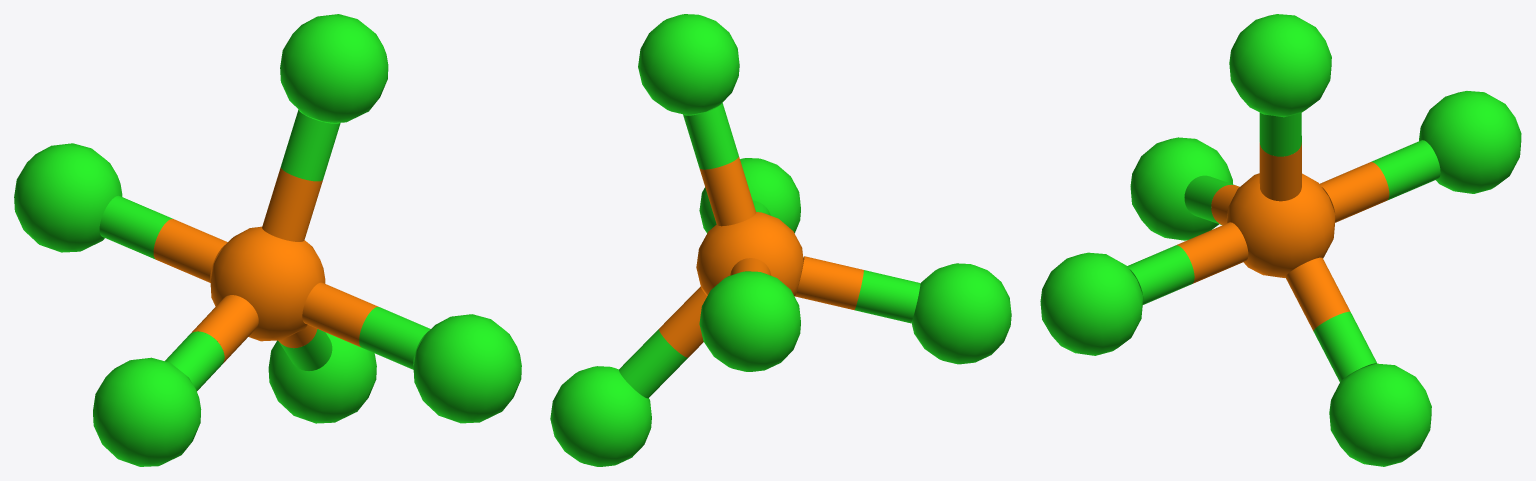
File: PCl5.dae
The picture shows the model from 3 angles, left to right: view 1: azimuth 30°, elevation 25°; view 2: azimuth 150°, elevation 25°; view 3: azimuth 270°, elevation 25°; orthographic projection. The views are drawn at different scales.
Visible parts, largest first — view 1: subnode_4, subnode_3, subnode_1, subnode_5, subnode_0, subnode_2, subnode_6, subnode_15, subnode_12, subnode_7, subnode_13, subnode_14 (+3 smaller); view 2: subnode_5, subnode_1, subnode_3, subnode_2, subnode_0, subnode_4, subnode_10, subnode_6, subnode_11, subnode_7, subnode_9, subnode_8; view 3: subnode_1, subnode_4, subnode_2, subnode_5, subnode_0, subnode_3, subnode_8, subnode_15, subnode_9, subnode_12, subnode_13, subnode_14 (+4 smaller).
Part boxes in pixels (x1,y1,x2,y2): subnode_4: (413,314,521,423); subnode_3: (93,357,201,466); subnode_1: (280,14,388,122); subnode_5: (14,143,122,252); subnode_0: (210,226,325,341); subnode_2: (268,332,376,423); subnode_6: (262,167,322,241); subnode_15: (153,219,227,282); subnode_12: (302,282,378,347); subnode_7: (281,109,340,181); subnode_13: (359,307,430,369); subnode_14: (99,195,172,259); subnode_5: (699,271,800,371); subnode_1: (638,14,739,114); subnode_3: (911,263,1011,364); subnode_2: (550,366,651,466); subnode_0: (696,212,803,296); subnode_4: (699,158,800,233); subnode_10: (795,256,863,310); subnode_6: (699,157,756,226); subnode_11: (855,270,920,323); subnode_7: (683,103,738,169); subnode_9: (619,329,687,398); subnode_8: (659,286,707,357); subnode_1: (1229,14,1331,117); subnode_4: (1040,252,1142,355); subnode_2: (1329,363,1431,466); subnode_5: (1419,91,1521,193); subnode_0: (1226,173,1335,277); subnode_3: (1130,137,1232,240); subnode_8: (1285,257,1350,331); subnode_15: (1319,162,1389,222); subnode_9: (1313,311,1377,382); subnode_12: (1176,222,1248,283); subnode_13: (1127,245,1194,304); subnode_14: (1371,140,1440,200).
Size of the model in its own units: 3.89 by 4.45 by 4.57.
